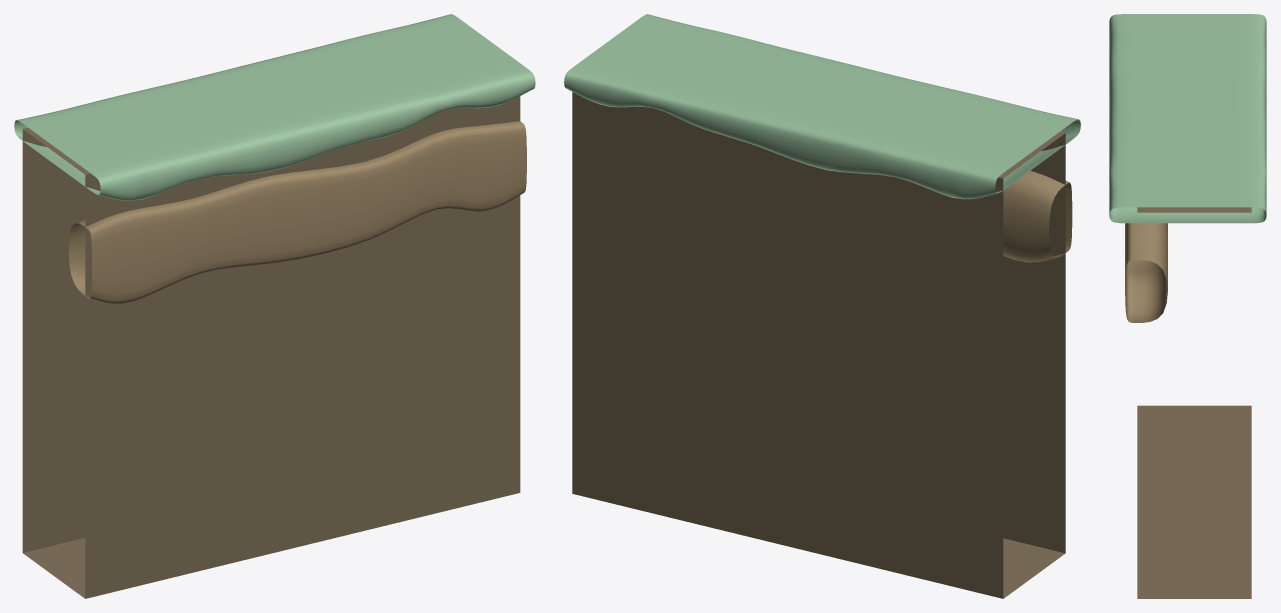
Rendered from terrains.fbx.
The picture shows the model from 3 angles, left to right: view 1: azimuth 30°, elevation 25°; view 2: azimuth 150°, elevation 25°; view 3: azimuth 270°, elevation 25°; orthographic projection. The views are drawn at different scales.
Parts seen in each view (by area): view 1: pCube5, pCube2, pCube6; view 2: pCube5, pCube2, pCube6; view 3: pCube2, pCube5, pCube6.
Part boxes in pixels (x1,y1,x2,y2): pCube5: [22, 96, 520, 598]; pCube2: [14, 14, 535, 200]; pCube6: [68, 121, 526, 303]; pCube5: [572, 92, 1065, 598]; pCube2: [564, 14, 1080, 199]; pCube6: [1003, 171, 1072, 262]; pCube2: [1109, 14, 1266, 223]; pCube5: [1137, 207, 1251, 598]; pCube6: [1125, 223, 1167, 322].
Bounding box in the file's own units: 40 × 37.76 × 13.75.
